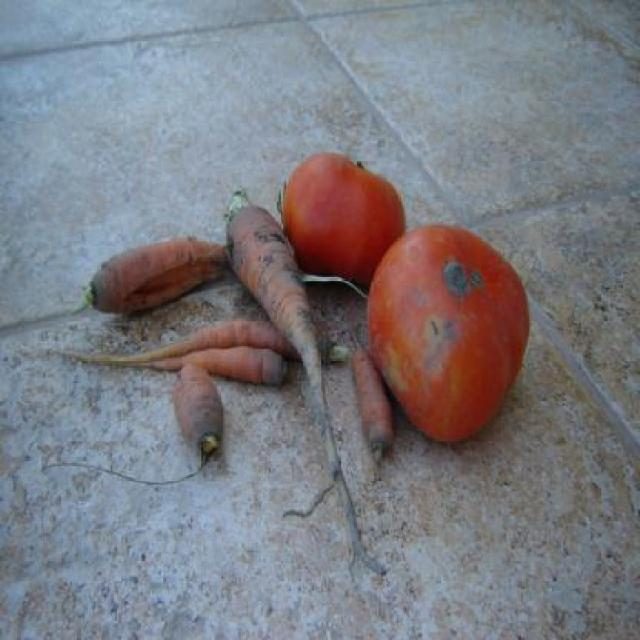Tomato: (366, 222, 531, 449), (282, 153, 406, 290)
